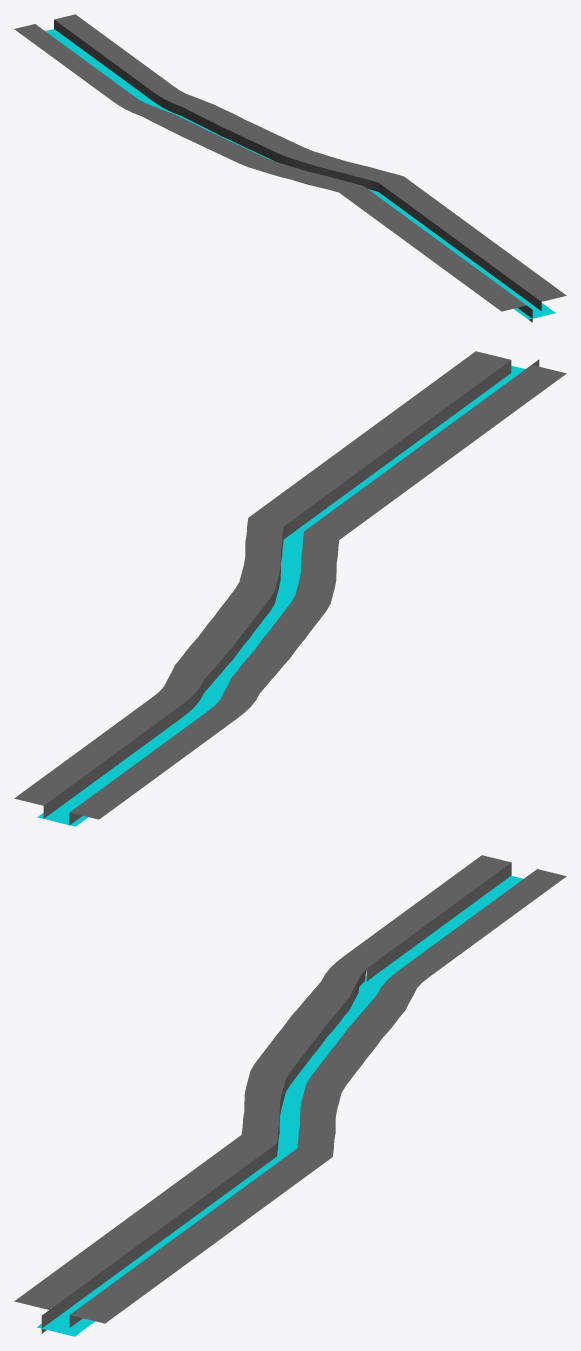
File: riber_01.fbx
3 views of the same model, one above another, from view 1: azimuth 30°, elevation 25°; view 2: azimuth 150°, elevation 25°; view 3: azimuth 330°, elevation 25° (orthographic). The views are drawn at different scales.
Visible parts, largest first — view 1: road10, road8, river_02, river_01; view 2: road10, road8, river_02, river_01; view 3: road8, road10, river_01, river_02.
Boxes of the visible parts, bbox=[...] form: road10: bbox=[54, 14, 566, 310]; road8: bbox=[14, 24, 532, 322]; river_02: bbox=[45, 29, 555, 315]; river_01: bbox=[51, 35, 542, 319]; road10: bbox=[14, 351, 511, 818]; road8: bbox=[69, 359, 566, 825]; river_02: bbox=[37, 365, 525, 821]; river_01: bbox=[56, 369, 524, 826]; road8: bbox=[14, 855, 511, 1333]; road10: bbox=[69, 869, 566, 1327]; river_01: bbox=[37, 875, 523, 1332]; river_02: bbox=[57, 976, 391, 1336].
Size of the model in its own units: 78.89 by 7 by 403.
